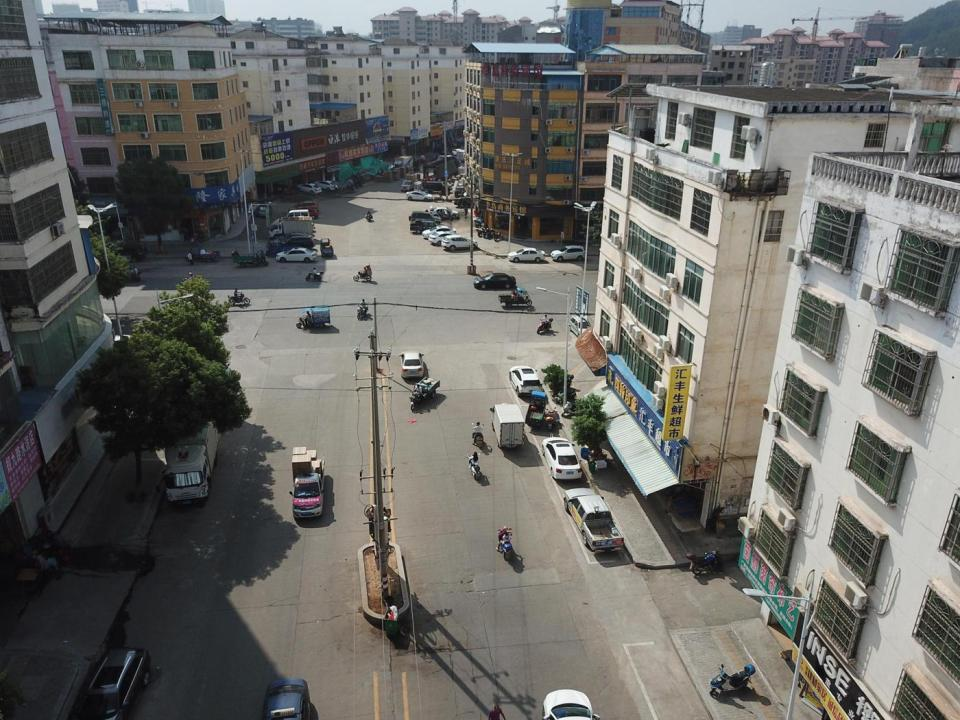car: (81, 648, 151, 720), (259, 679, 311, 720), (543, 689, 604, 720), (542, 437, 583, 481), (509, 366, 542, 395), (269, 232, 315, 252), (473, 273, 516, 290), (401, 351, 424, 381), (550, 245, 586, 262), (276, 247, 316, 262), (442, 235, 478, 251), (508, 247, 545, 262), (569, 316, 591, 340), (430, 231, 460, 246), (408, 211, 442, 224), (422, 226, 456, 239), (410, 220, 442, 233), (425, 181, 452, 195), (431, 207, 460, 220), (290, 201, 318, 214), (296, 182, 322, 196), (406, 191, 432, 201), (316, 180, 338, 191), (291, 209, 317, 218), (256, 204, 272, 218), (455, 180, 466, 198), (451, 148, 463, 155)
truck: (423, 155, 461, 180), (269, 217, 312, 238), (394, 156, 412, 170)
van: (162, 419, 219, 503), (563, 488, 625, 556), (289, 447, 323, 523), (491, 402, 525, 448), (284, 209, 309, 224), (401, 175, 420, 191)
